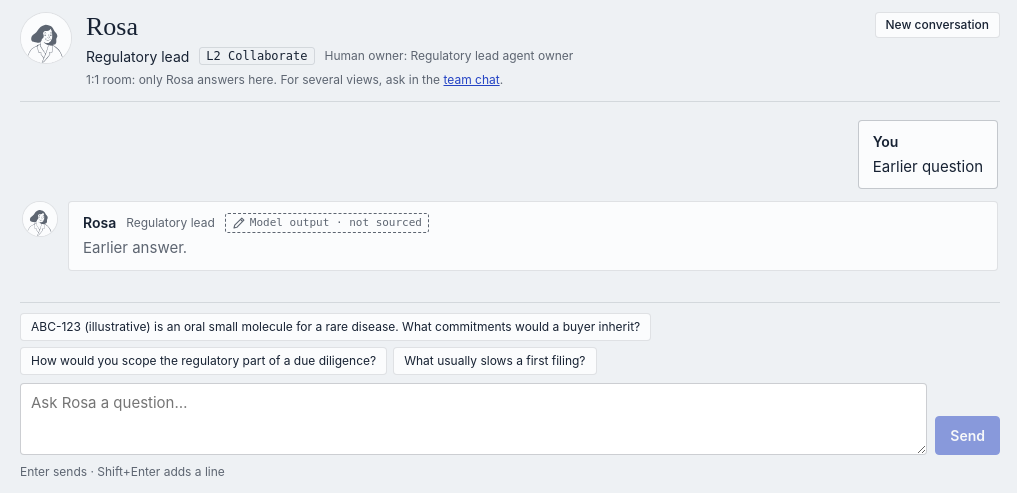
Test: ChatRoom: the live demo’s prompts › Rosa’s room keeps the walkthrough’s prompt and her examples after a conversation has started, and each can be clicked again
Expected: the text "Earlier answer." is shown, [83,238,187,257]
Expected: the text box named "Message Rosa" is enabled, [20,383,927,455]
Click the 2nd button: point(336, 327) [20,313,651,341]
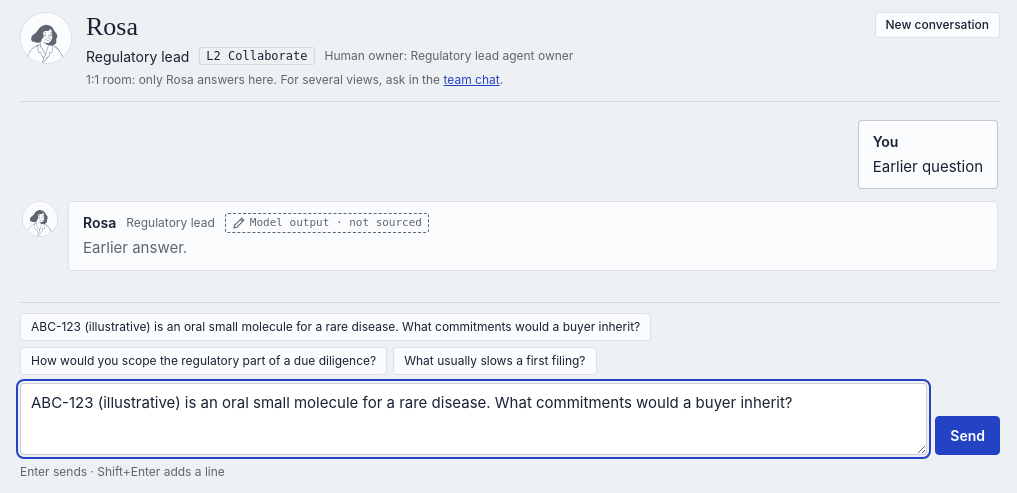
Click the button named "ABC-123 (illustrative) is an oral small molecule for a rare disease. What commitments would a buyer inherit?": point(336, 327) [20,313,651,341]
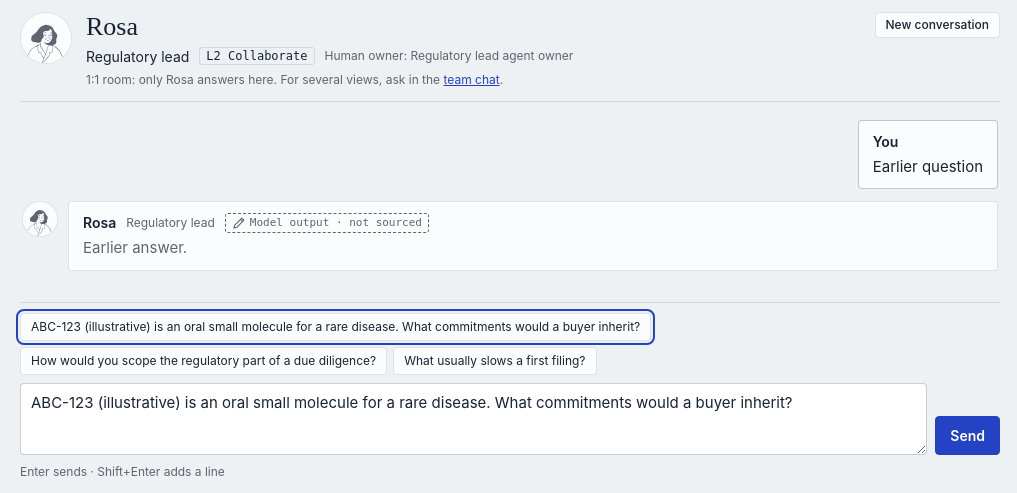
Result: the text box holds "ABC-123 (illustrative) is an oral small molecule for a rare disease. What commitments would a buyer inherit?" at [20,383,927,455]
Click the button "What usually slows a first filing?": point(495, 361) [393,347,596,375]
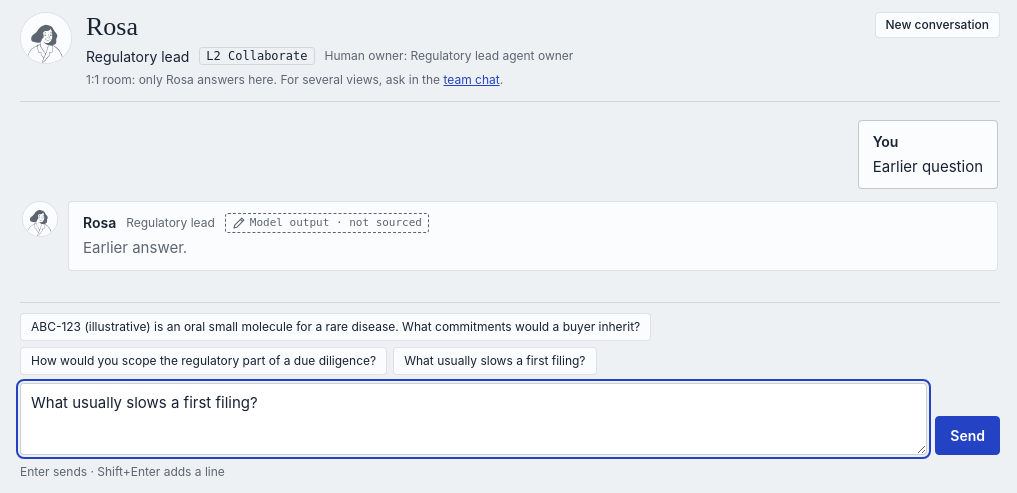
Result: the text box holds "What usually slows a first filing?" at [20,383,927,455]
